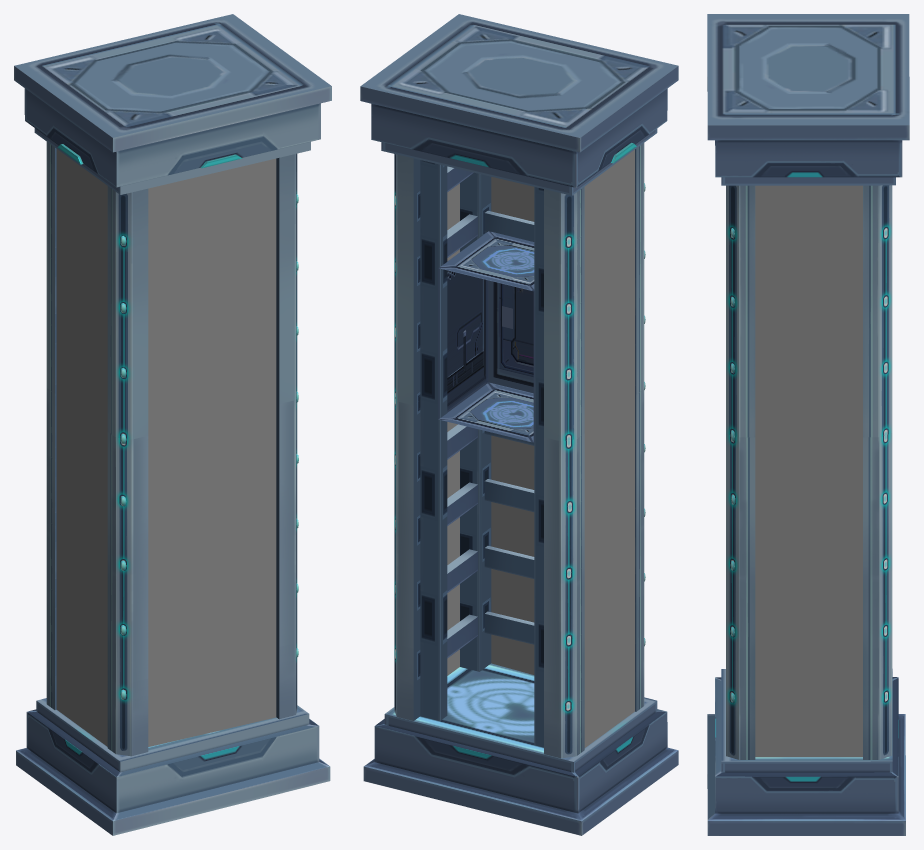
The model's file is Building_GHQ_dt1.FBX.
3 renders of one model, left to right at view 1: azimuth 30°, elevation 25°; view 2: azimuth 150°, elevation 25°; view 3: azimuth 270°, elevation 25°, orthographic. The views are drawn at different scales.
Visible parts, largest first — view 1: Building_GHQ_dt1_boli, Building_GHQ_dt1_2, Building_GHQ_dt1_1, Building_GHQ_dt1_texiao; view 2: Building_GHQ_dt1_1, Building_GHQ_dt1_2, Building_GHQ_dt1_boli, Building_GHQ_dt1_3; view 3: Building_GHQ_dt1_boli, Building_GHQ_dt1_2, Building_GHQ_dt1_1.
Part boxes in pixels (x1=…): Building_GHQ_dt1_boli: x1=56, y1=149, x2=276, y2=746; Building_GHQ_dt1_2: x1=14, y1=14, x2=331, y2=835; Building_GHQ_dt1_1: x1=46, y1=142, x2=297, y2=756; Building_GHQ_dt1_texiao: x1=57, y1=144, x2=298, y2=699; Building_GHQ_dt1_1: x1=394, y1=143, x2=644, y2=758; Building_GHQ_dt1_2: x1=360, y1=14, x2=678, y2=835; Building_GHQ_dt1_boli: x1=447, y1=150, x2=634, y2=747; Building_GHQ_dt1_3: x1=438, y1=231, x2=534, y2=442; Building_GHQ_dt1_boli: x1=755, y1=185, x2=862, y2=757; Building_GHQ_dt1_2: x1=707, y1=14, x2=909, y2=835; Building_GHQ_dt1_1: x1=726, y1=185, x2=892, y2=759.
Size of the model in its own units: 247 by 751 by 193.
